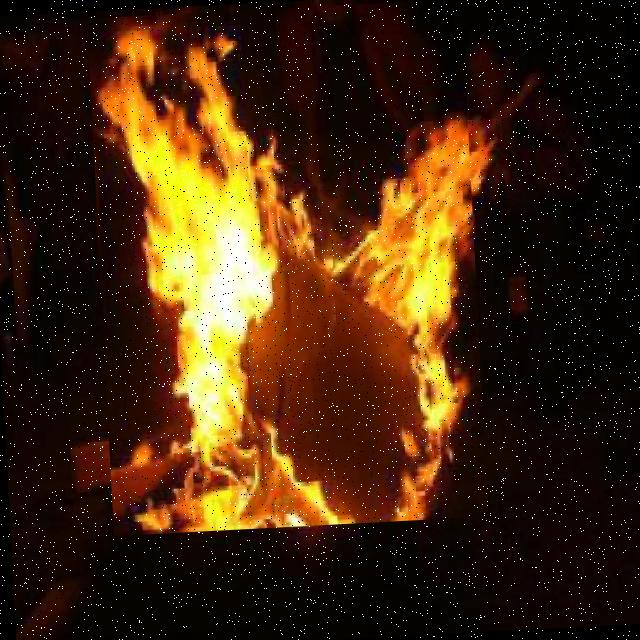fire: (86, 0, 488, 536)
